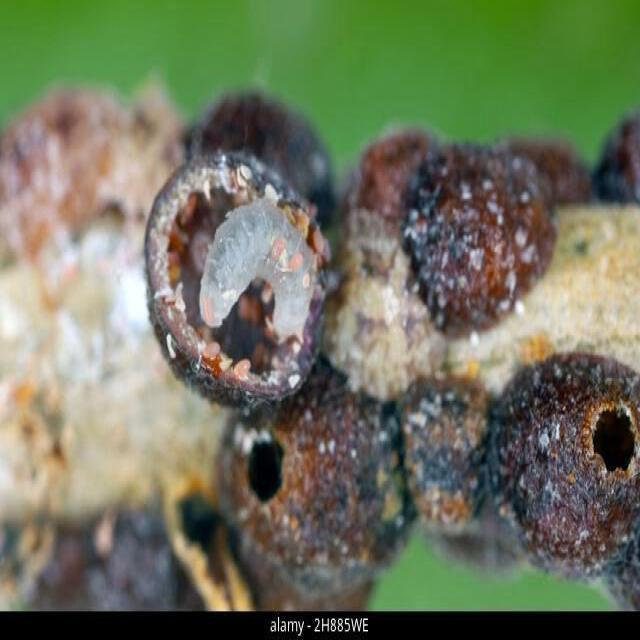BlackScale: (146, 93, 335, 418), (219, 357, 415, 608), (486, 355, 639, 596), (402, 146, 555, 335), (402, 376, 489, 532)
